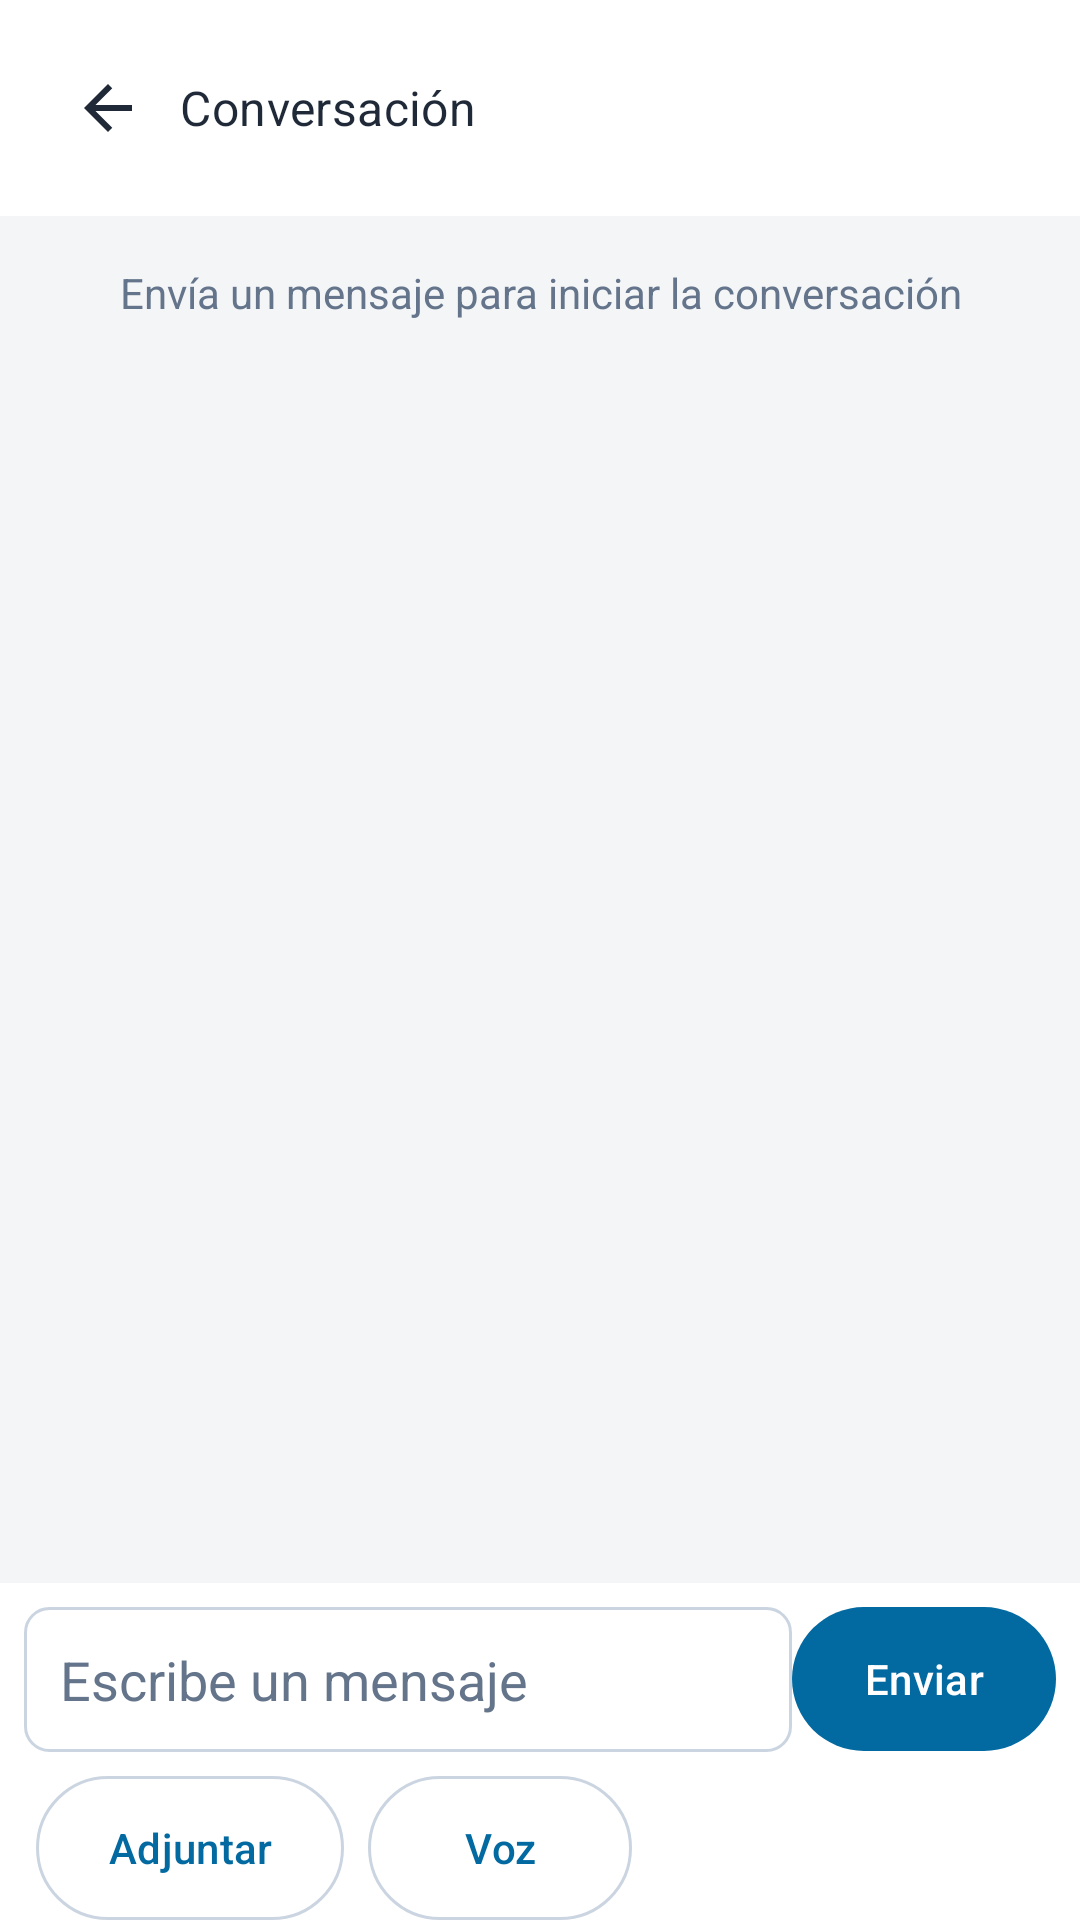

Named icons in this screenshot (1080 × 1920) and their bounding boxes, rect(x1, y1, x2, y2):
Regresar: rect(84, 84, 132, 132)
